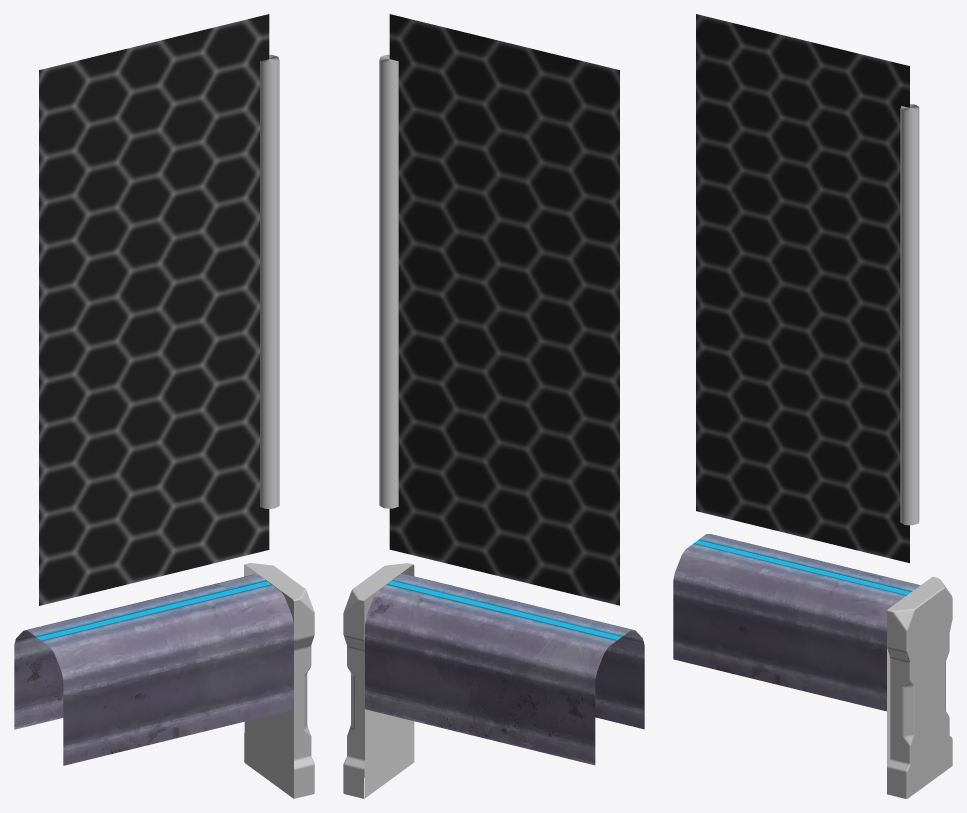
Rendered from SM_Bleachers_Wall_End.fbx.
3 renders of one model, left to right at view 1: azimuth 30°, elevation 25°; view 2: azimuth 150°, elevation 25°; view 3: azimuth 330°, elevation 25°, orthographic. The views are drawn at different scales.
Parts seen in each view (by area): view 1: SM_Bleachers_Wall_End; view 2: SM_Bleachers_Wall_End; view 3: SM_Bleachers_Wall_End.
Part boxes in pixels (x1,y1,x2,y2): SM_Bleachers_Wall_End: [14, 14, 314, 798]; SM_Bleachers_Wall_End: [343, 14, 644, 798]; SM_Bleachers_Wall_End: [673, 14, 952, 798].
Bounding box in the file's own units: 295 × 859 × 101.
